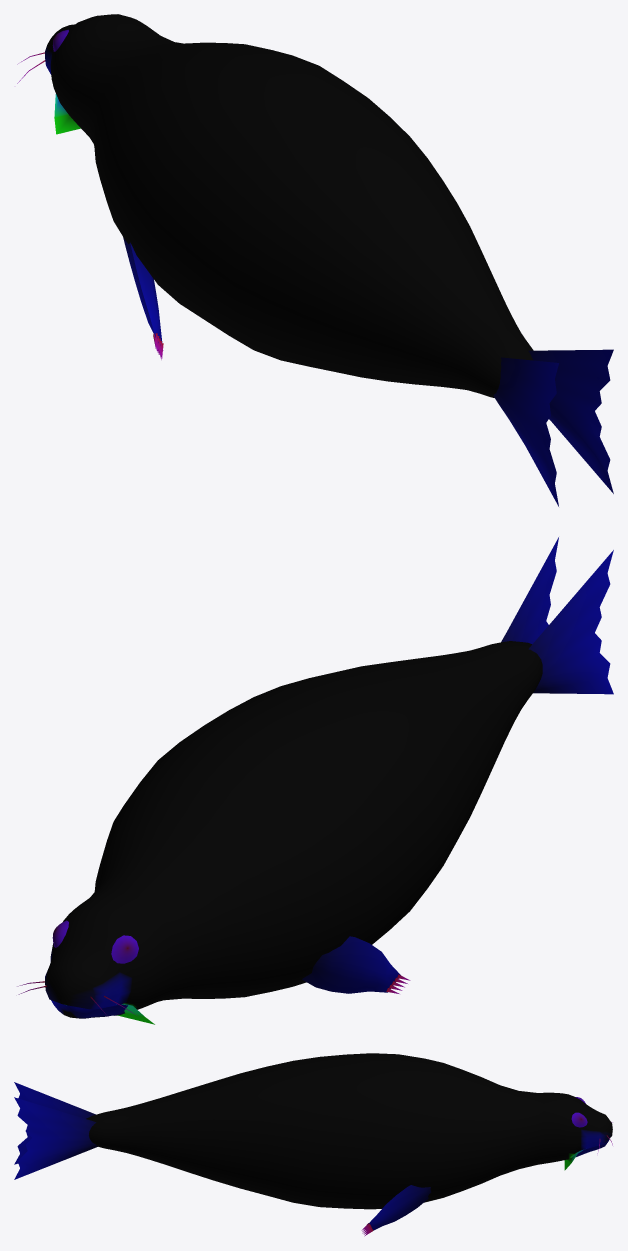
Rendered from harbor_seal_lo.glb.
3 renders of one model, top to bottom at view 1: azimuth 30°, elevation 25°; view 2: azimuth 150°, elevation 25°; view 3: azimuth 270°, elevation 25°, orthographic. The views are drawn at different scales.
Visible parts, largest first — view 1: harbor_seal_lo; view 2: harbor_seal_lo; view 3: harbor_seal_lo.
Part boxes in pixels (<box>): harbor_seal_lo: <box>17,14,613,506</box>; harbor_seal_lo: <box>17,537,613,1024</box>; harbor_seal_lo: <box>14,1053,612,1236</box>.
Bounding box in the file's own units: 0.4485 × 0.4174 × 1.6.
